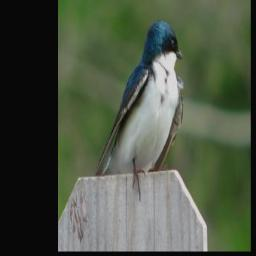Swallow: (93, 17, 185, 202)
